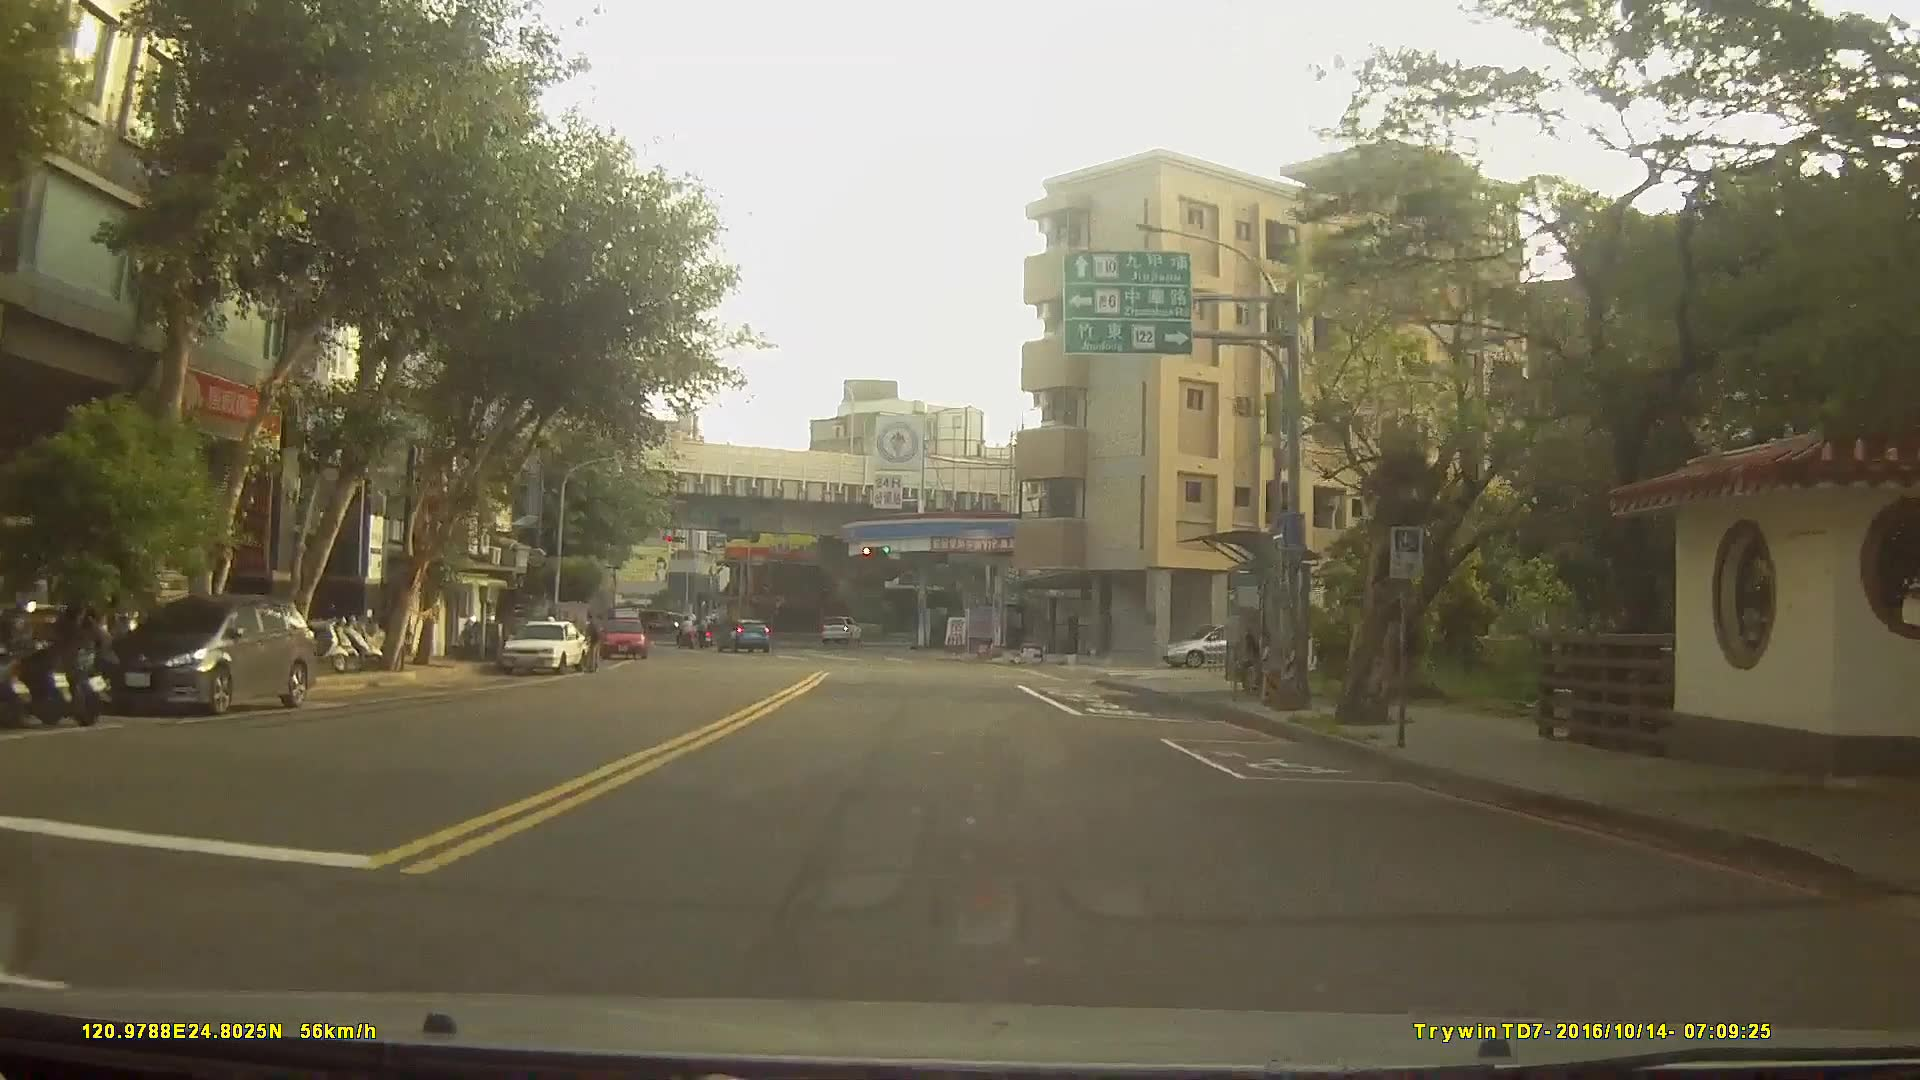rider: (674, 614, 697, 651)
vehicle: (99, 588, 311, 713), (1158, 621, 1283, 666), (500, 618, 590, 674), (598, 612, 644, 657), (717, 615, 770, 652), (821, 613, 863, 641)
